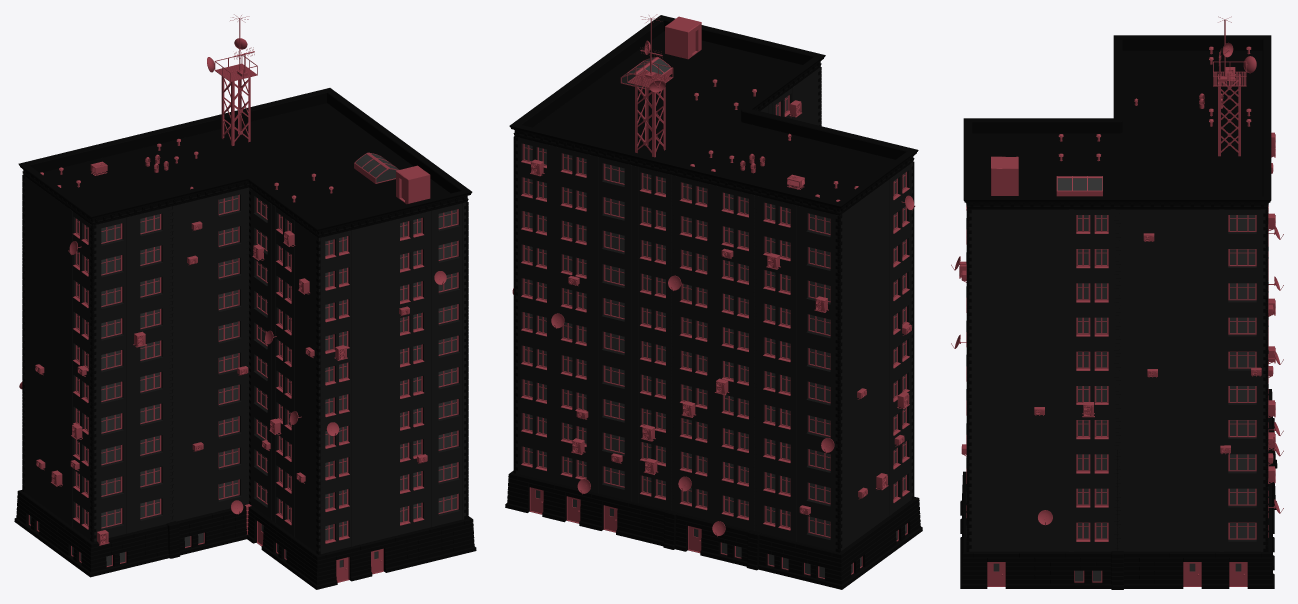
Rendered from Building1_2.fbx.
3 renders of one model, left to right at view 1: azimuth 30°, elevation 25°; view 2: azimuth 150°, elevation 25°; view 3: azimuth 270°, elevation 25°, orthographic. The views are drawn at different scales.
Parts seen in each view (by area): view 1: Building3; view 2: Building3; view 3: Building3.
Boxes of the visible parts, bbox=[...] form: Building3: bbox=[14, 14, 476, 589]; Building3: bbox=[505, 14, 922, 589]; Building3: bbox=[951, 16, 1283, 589].
Size of the model in its own units: 3289 by 4468 by 2644.
